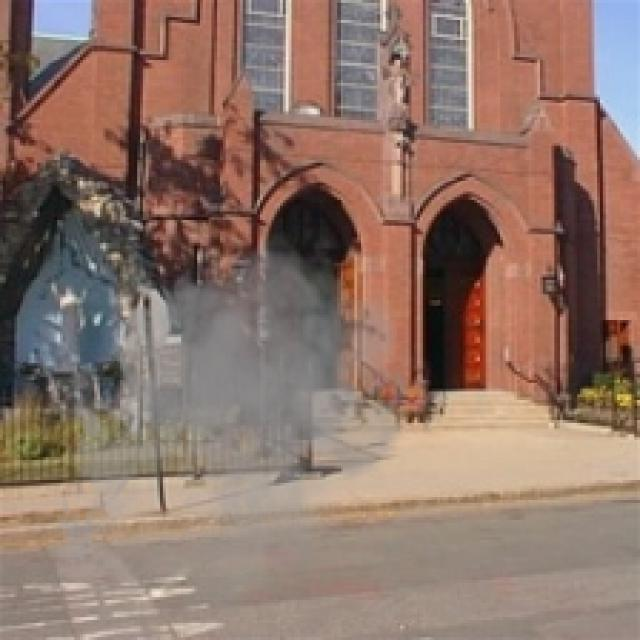Smoke: (46, 220, 434, 629)
